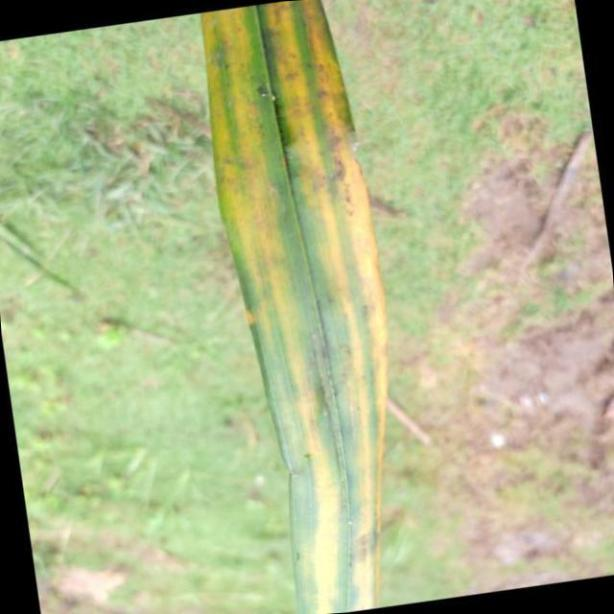Megnesium: (198, 0, 385, 614)
